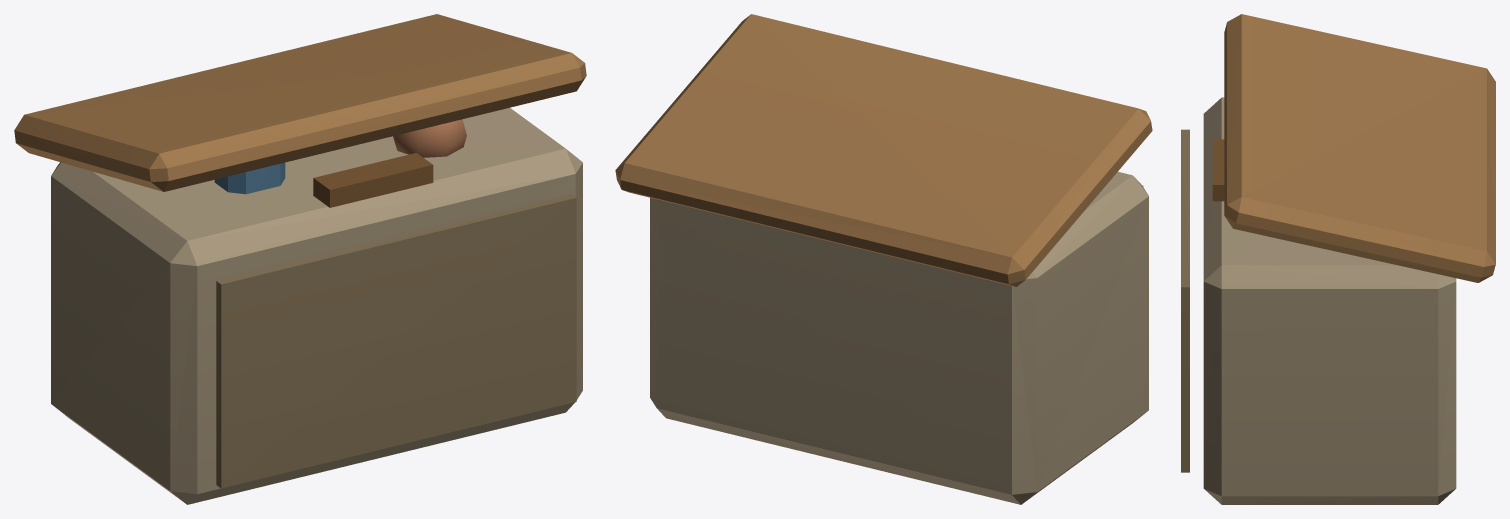
The model's file is toy_box.glb.
3 views of the same model, side by side, from view 1: azimuth 30°, elevation 25°; view 2: azimuth 150°, elevation 25°; view 3: azimuth 270°, elevation 25° (orthographic). The views are drawn at different scales.
Parts seen in each view (by area): view 1: toy_box; view 2: toy_box; view 3: toy_box.
Boxes of the visible parts, x1,y1,x2,y2 form: toy_box: [14, 14, 586, 504]; toy_box: [615, 14, 1152, 504]; toy_box: [1181, 14, 1495, 504].
Size of the model in its own units: 0.76 by 0.5791 by 0.5233.
